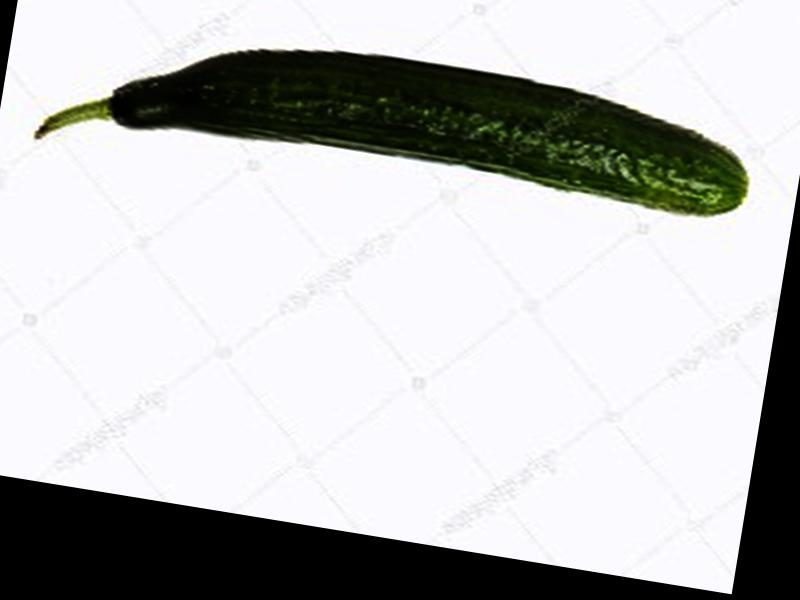Cucumber: (30, 3, 755, 251)
